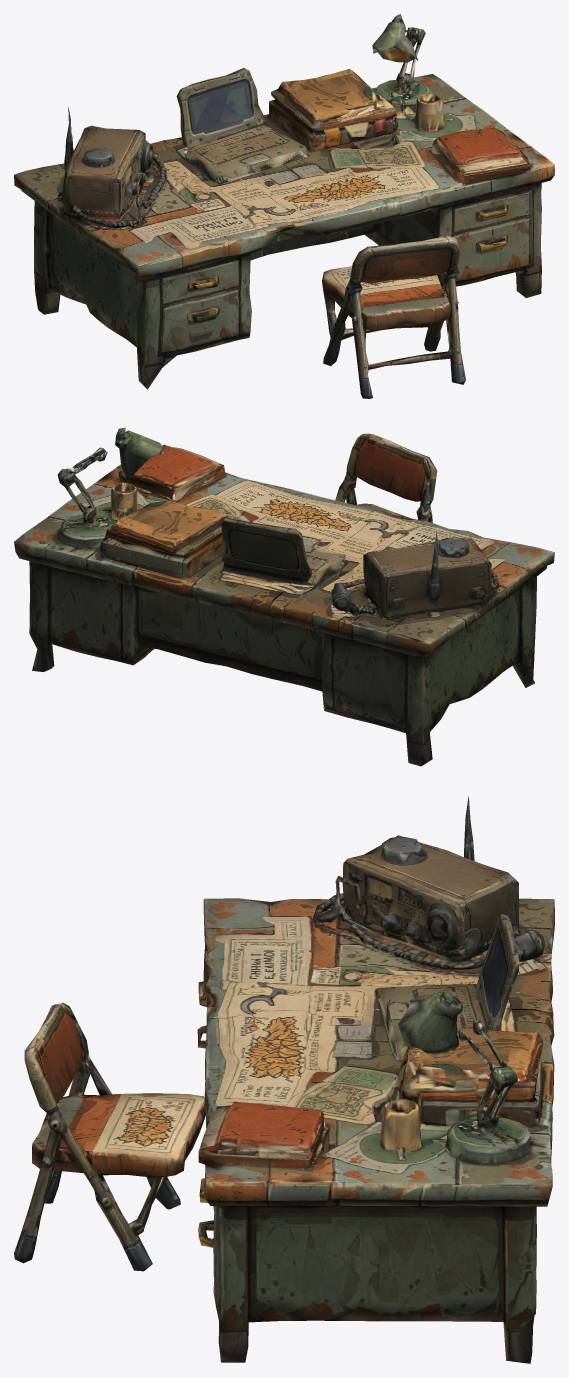
File: EX_Camp_Desk.fbx
3 views of the same model, one above another, from view 1: azimuth 30°, elevation 25°; view 2: azimuth 150°, elevation 25°; view 3: azimuth 270°, elevation 25° (orthographic). The views are drawn at different scales.
Visible parts, largest first — view 1: texture_mapping; view 2: texture_mapping; view 3: texture_mapping.
Boxes of the visible parts, x1=… form: texture_mapping: x1=14, y1=14, x2=554, y2=398; texture_mapping: x1=14, y1=427, x2=554, y2=766; texture_mapping: x1=14, y1=796, x2=554, y2=1363.
Size of the model in its own units: 1 by 0.7888 by 0.5375.
1 material, 1 textured.
